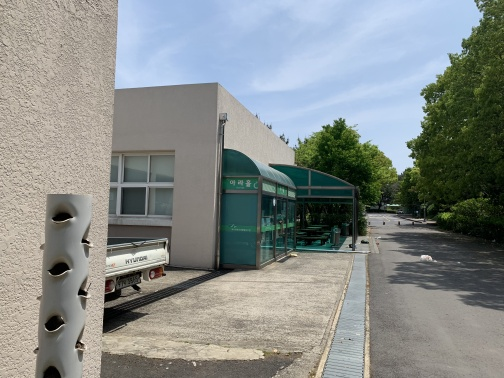Ara Hall: (136, 102, 353, 273)
